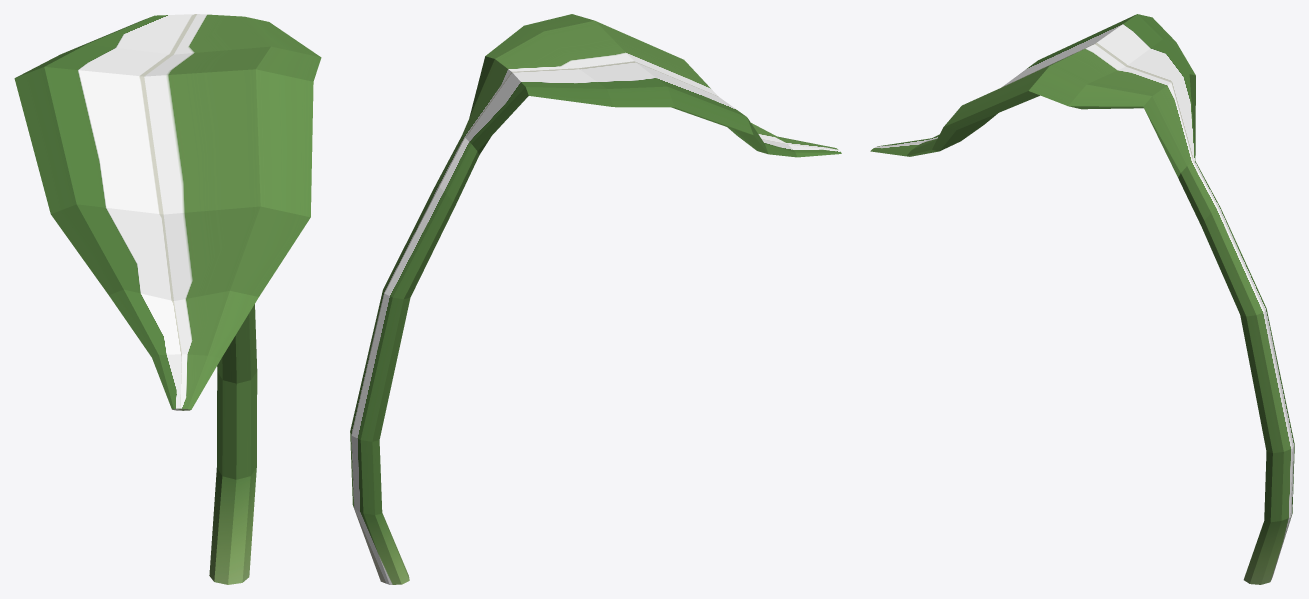
Rendered from variegatedMonstera4.fbx.
The picture shows the model from 3 angles, left to right: view 1: azimuth 30°, elevation 25°; view 2: azimuth 150°, elevation 25°; view 3: azimuth 270°, elevation 25°; orthographic projection. The views are drawn at different scales.
Parts seen in each view (by area): view 1: monsteras; view 2: monsteras; view 3: monsteras.
Boxes of the visible parts, <box> form: monsteras: <box>14,14,321,584</box>; monsteras: <box>350,14,841,584</box>; monsteras: <box>870,14,1294,584</box>.
Size of the model in its own units: 231 by 393 by 321.
